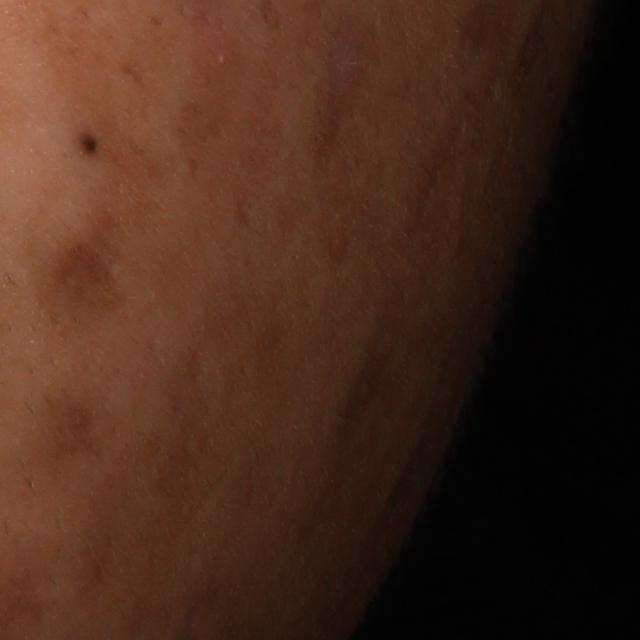nevus: (77, 127, 103, 155)
